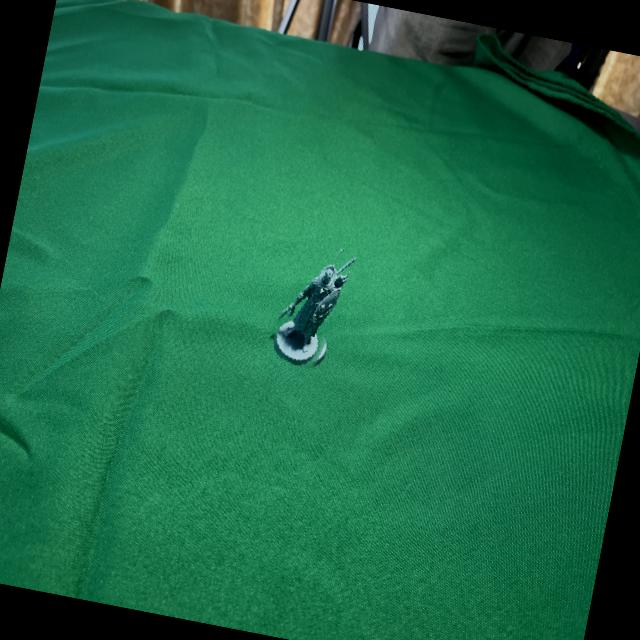isis_follower: (268, 238, 358, 376)
